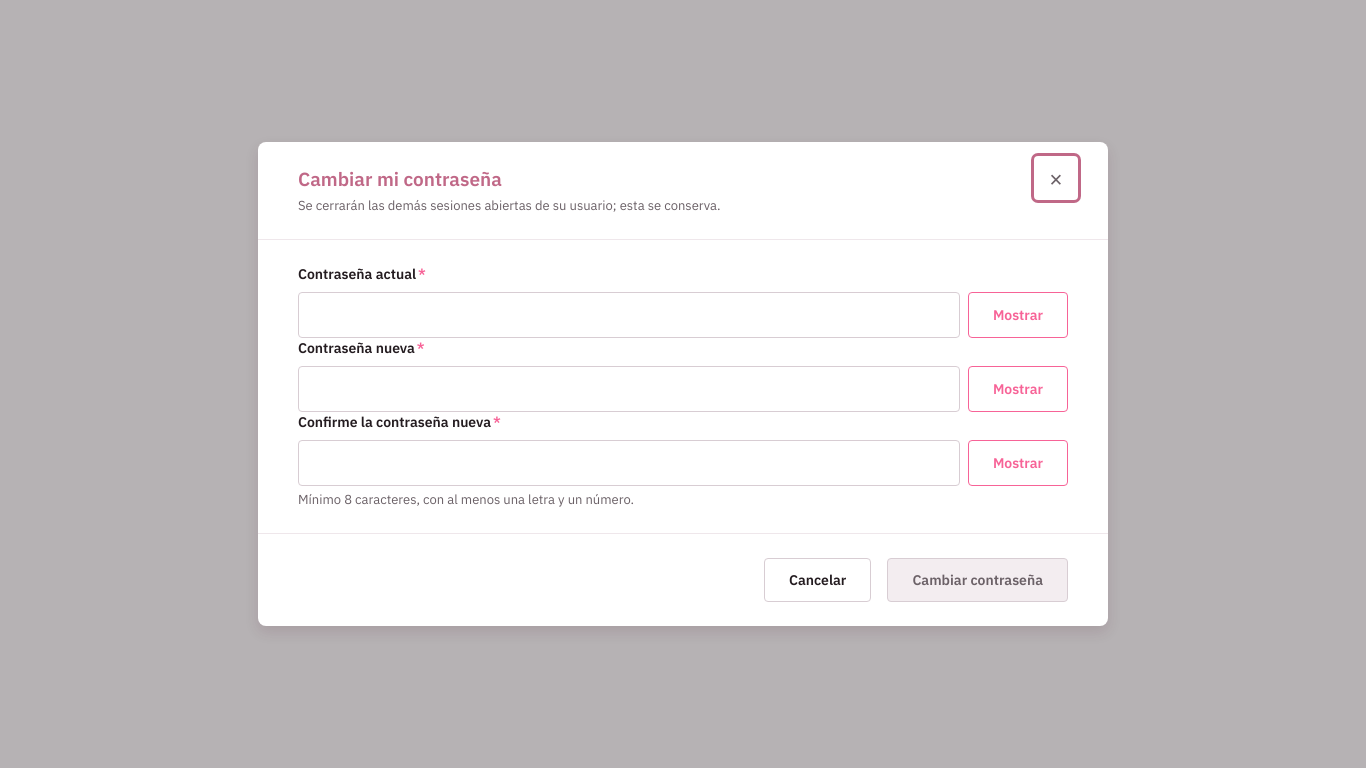
Test case: ModalCambiarPassword › muestra bajo el campo cuántos intentos quedan
The width and height of the screenshot is (1366, 768).
Type "incorrecta1" into the password field labelled "Contraseña actual*".
click(629, 315); type("incorrecta1")  # box [298, 292, 960, 338]
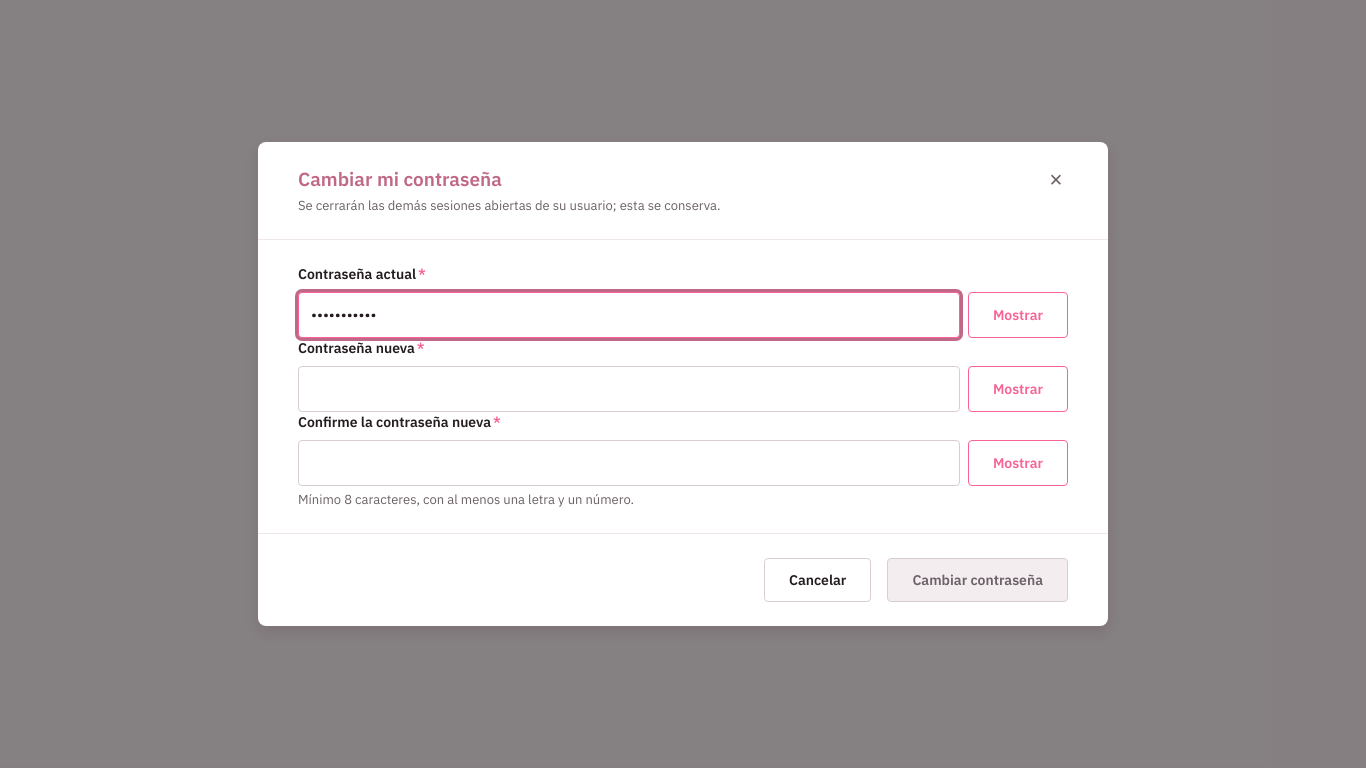
Type "NuevaClave123" into the password field labelled "Contraseña nueva*".
click(629, 389); type("NuevaClave123")  # box [298, 366, 960, 412]
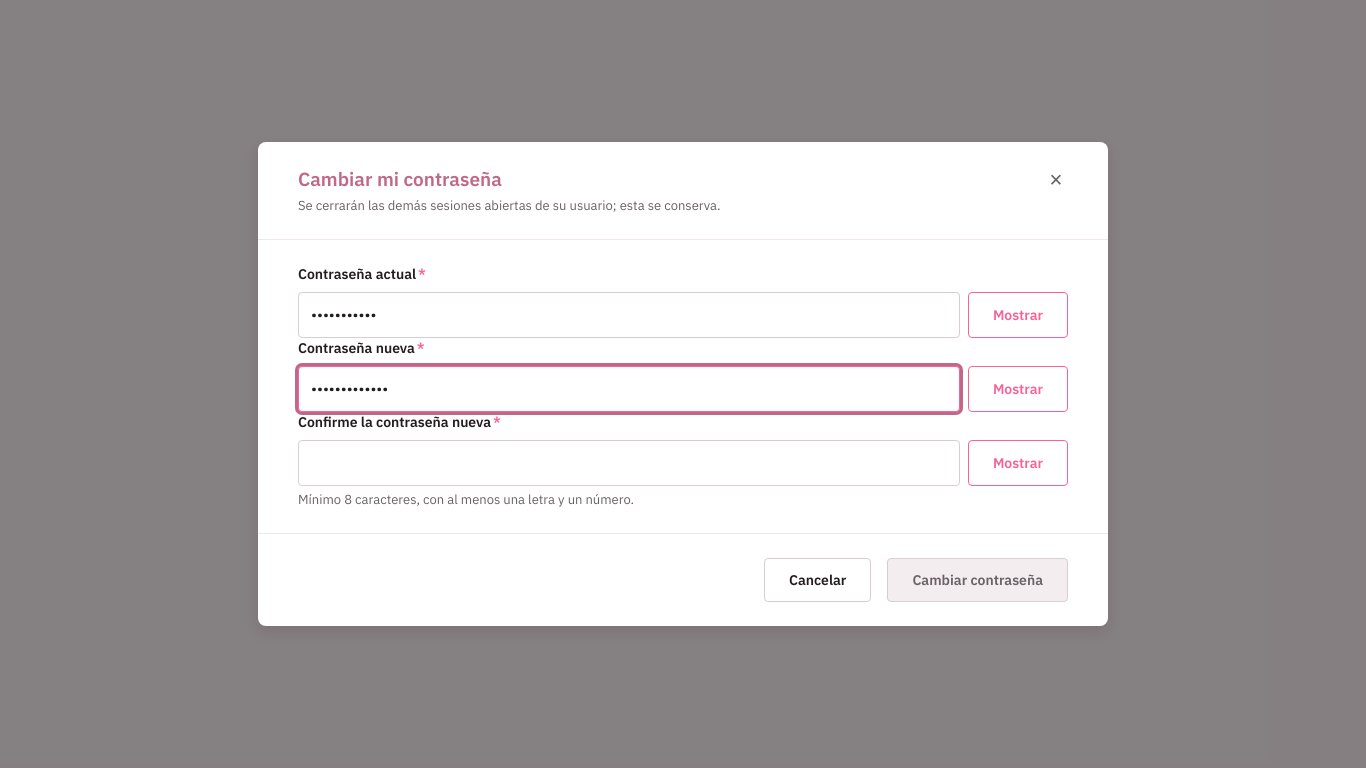
Type "NuevaClave123" into the password field labelled "Confirme la contraseña nueva*".
click(629, 463); type("NuevaClave123")  # box [298, 440, 960, 486]
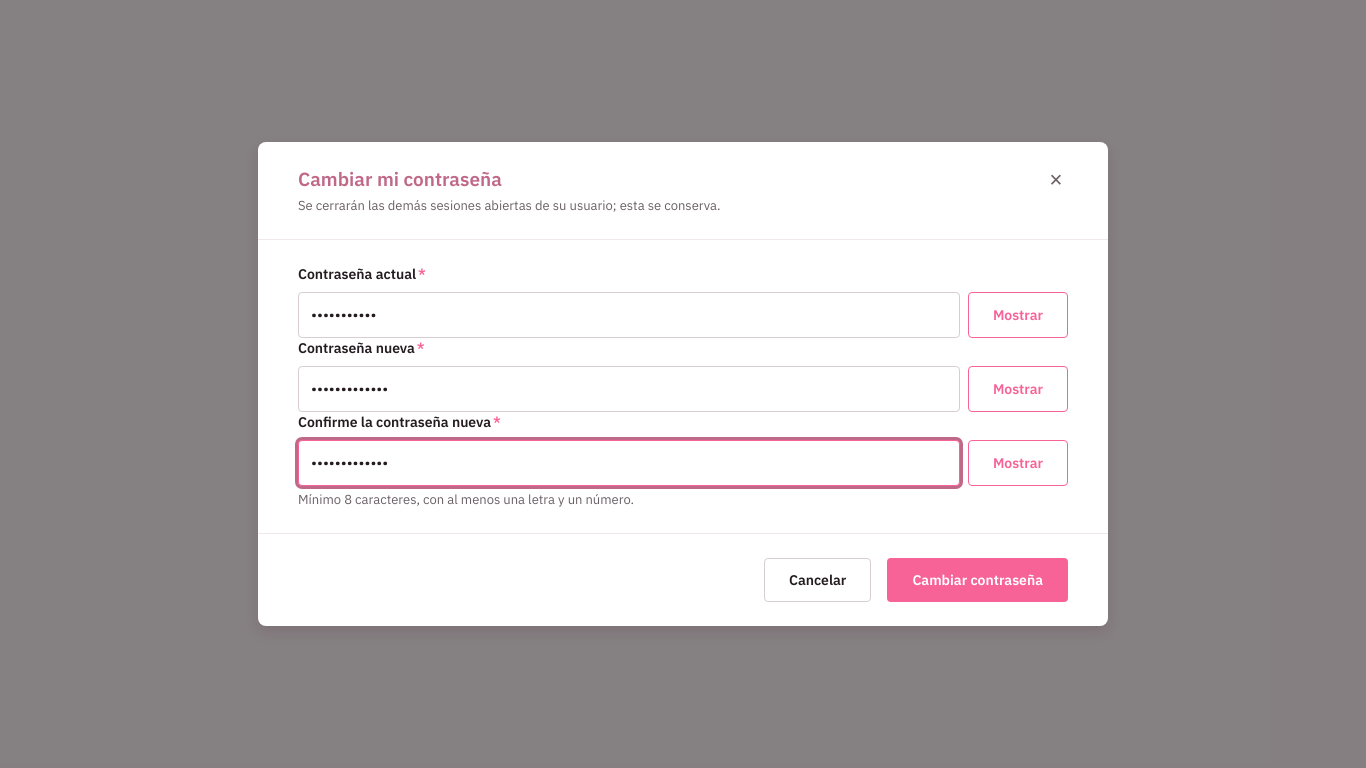
Click the button "Cambiar contraseña".
click(978, 580)  # box [887, 558, 1068, 602]
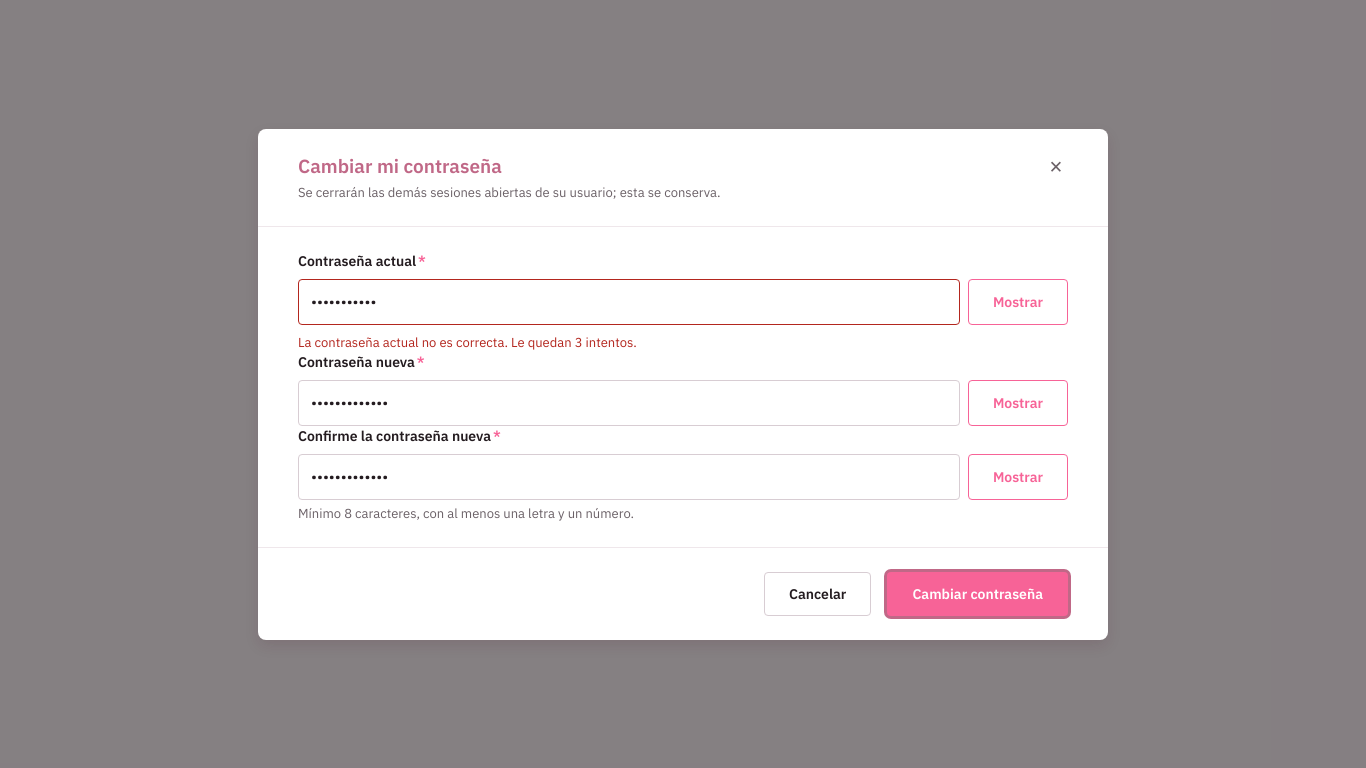
Expected: the text "La contraseña actual no es correcta. Le quedan 3 intentos." is shown, [298, 334, 637, 350]
